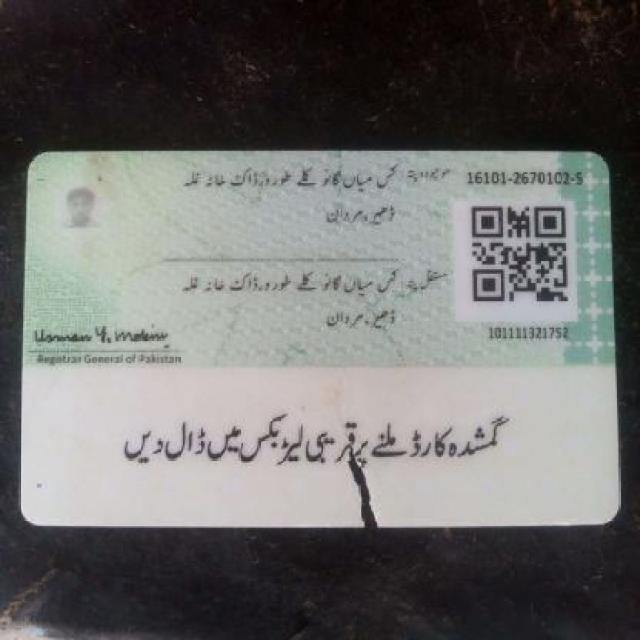Back: (16, 149, 624, 534)
